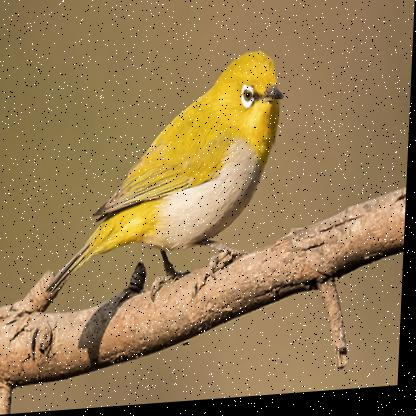Burung: (46, 52, 285, 312)
